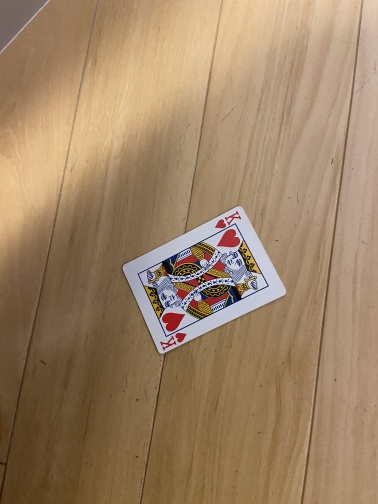king: (121, 204, 288, 355)
